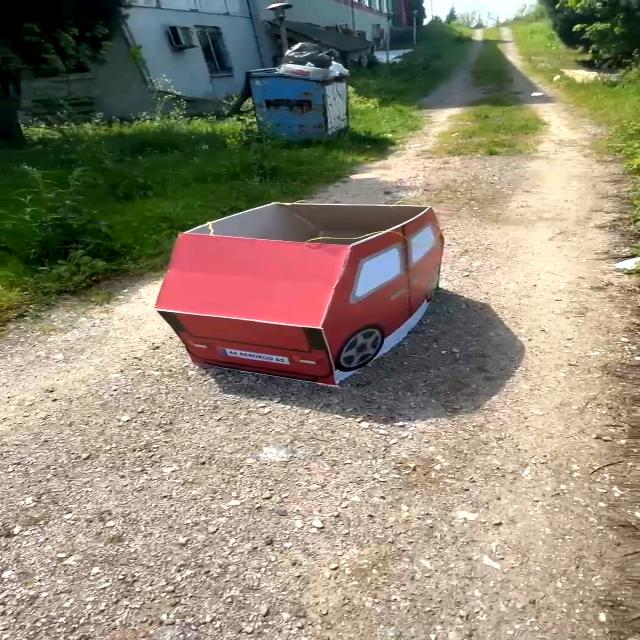red_car: (119, 175, 503, 403)
